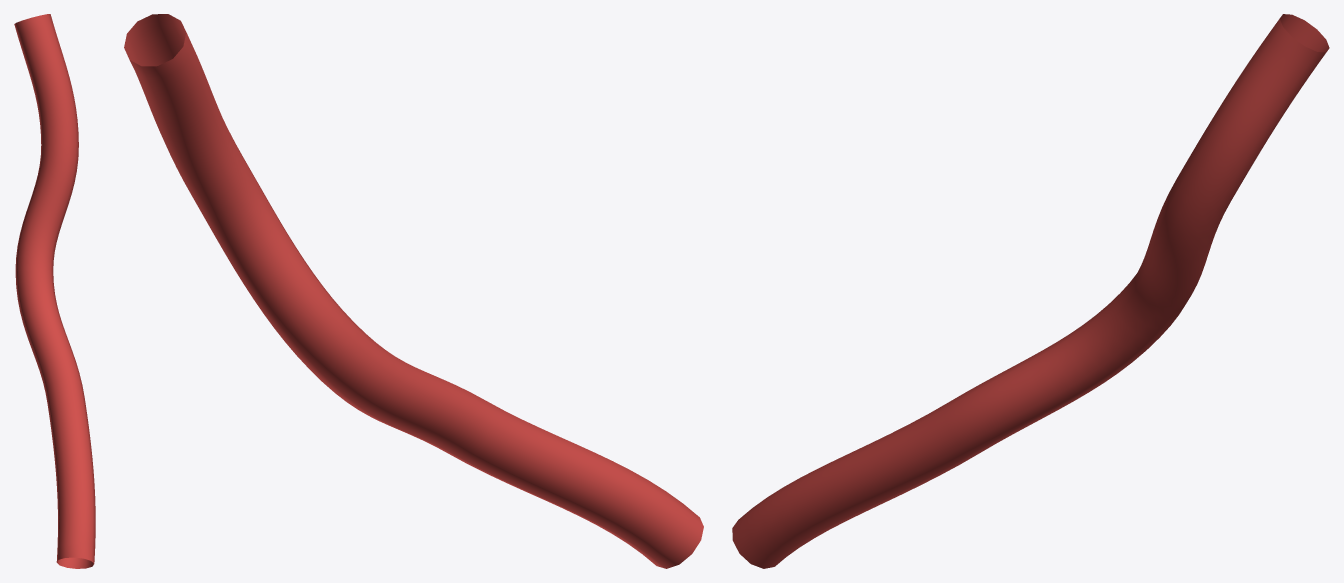
3 views of the same model, side by side, from view 1: azimuth 30°, elevation 25°; view 2: azimuth 150°, elevation 25°; view 3: azimuth 270°, elevation 25° (orthographic). The views are drawn at different scales.
Parts seen in each view (by area): view 1: 左侧足底深动脉; view 2: 左侧足底深动脉; view 3: 左侧足底深动脉.
Part boxes in pixels (x1=…): 左侧足底深动脉: x1=14, y1=14, x2=95, y2=568; 左侧足底深动脉: x1=124, y1=14, x2=703, y2=568; 左侧足底深动脉: x1=732, y1=14, x2=1329, y2=568.
Bounding box in the file's own units: 0.0132 × 0.0315 × 0.0265.
